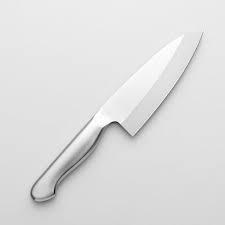Knife: (30, 30, 203, 202)
